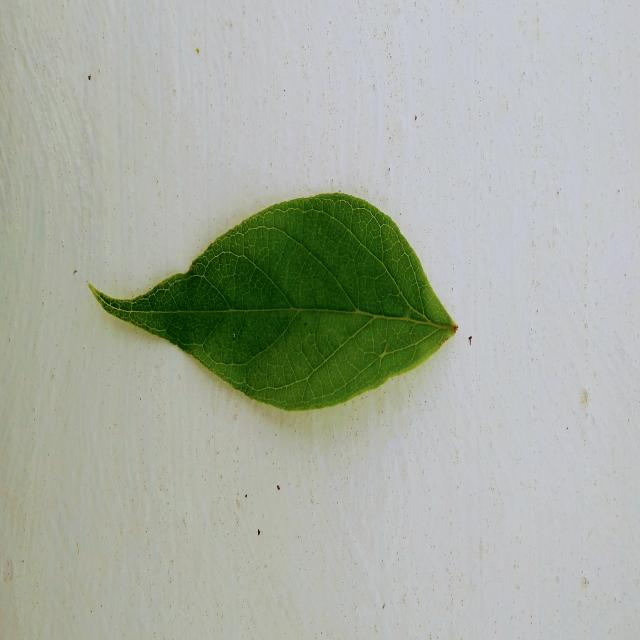Parijatha: (90, 193, 456, 411)
